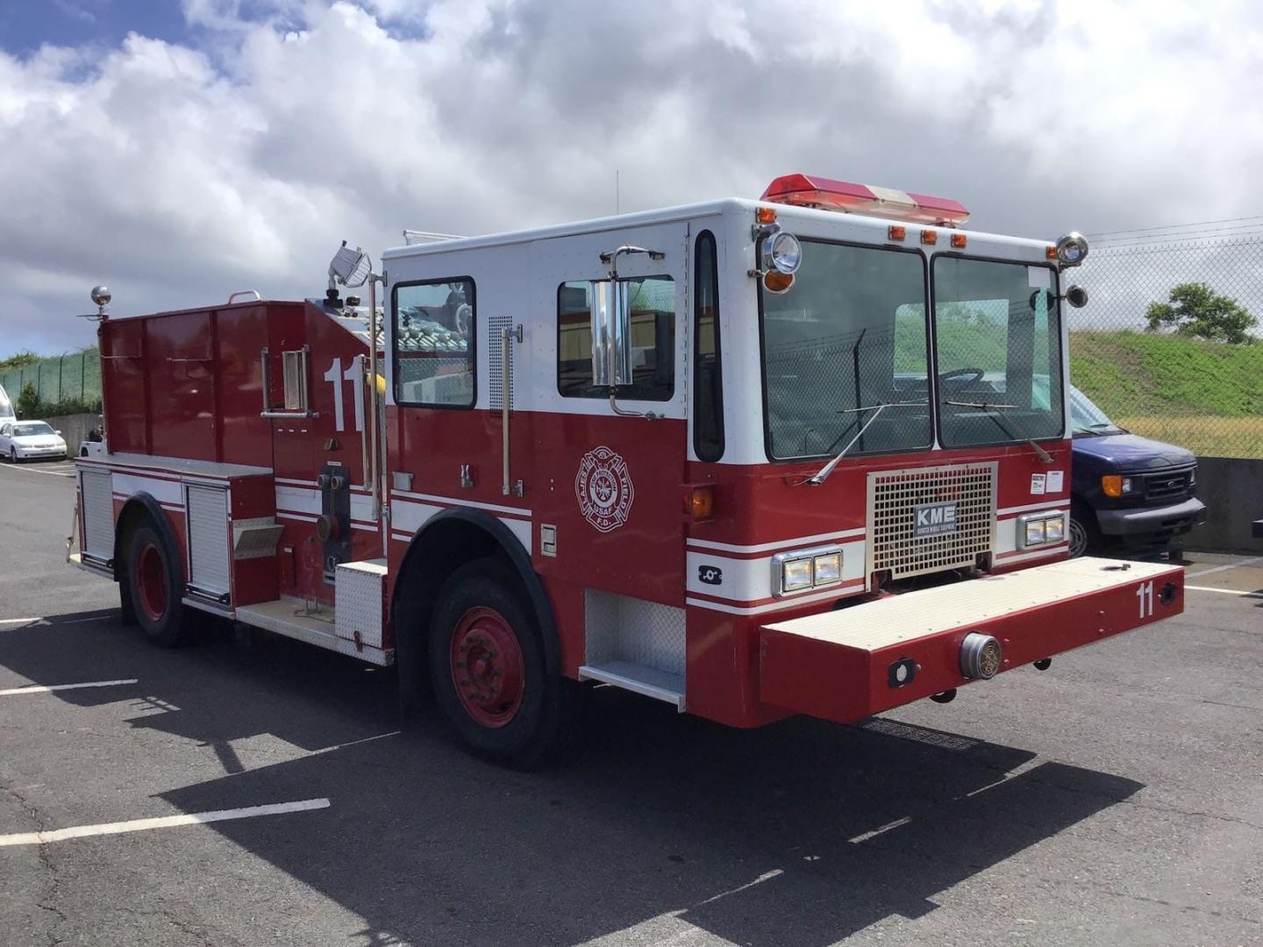Fire-engine: (65, 171, 1188, 766)
